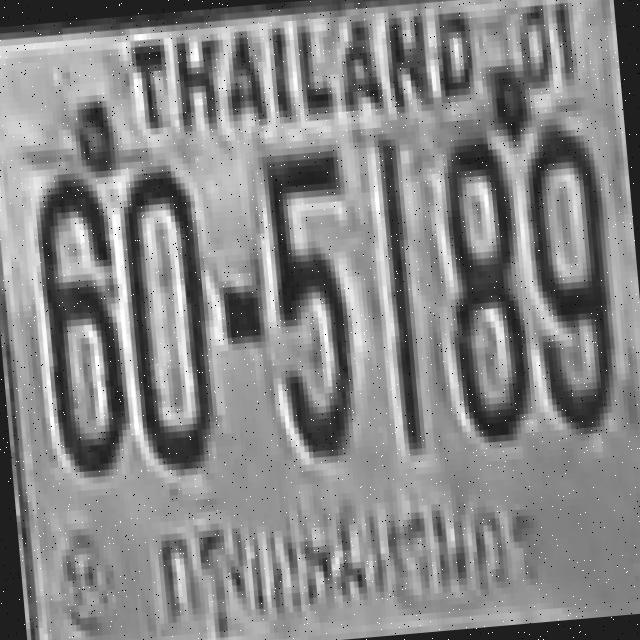0: (120, 160, 222, 468)
5: (258, 144, 364, 454)
6: (32, 170, 133, 473)
8: (432, 130, 529, 438)
9: (519, 114, 617, 430)
Bangkok: (147, 471, 552, 640)
